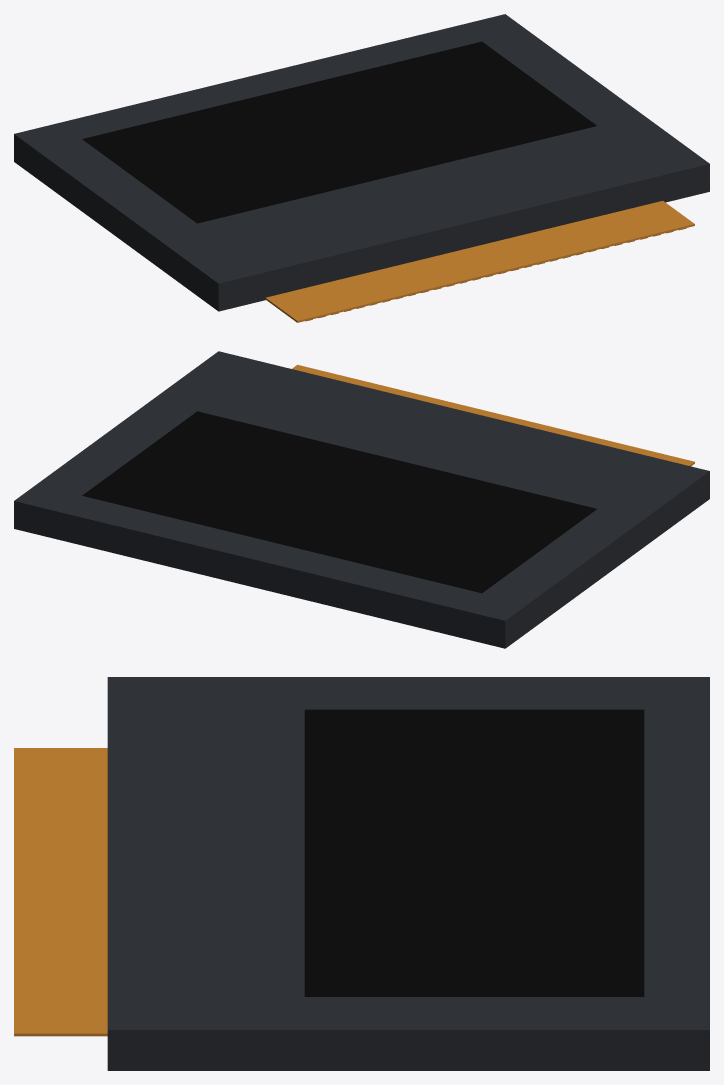
Rendered from ssd1306-oled-128x64.glb.
3 views of the same model, one above another, from view 1: azimuth 30°, elevation 25°; view 2: azimuth 150°, elevation 25°; view 3: azimuth 270°, elevation 25° (orthographic). The views are drawn at different scales.
Parts seen in each view (by area): view 1: object 1, glass, object 3; view 2: object 1, glass, object 3; view 3: object 1, glass, object 3.
Boxes of the visible parts, box(x1,y1,x2,y2) form: object 1: box(14, 14, 709, 311); glass: box(82, 41, 596, 223); object 3: box(265, 201, 694, 322); object 1: box(14, 351, 709, 648); glass: box(82, 411, 596, 593); object 3: box(292, 364, 694, 466); object 1: box(107, 677, 709, 1070); glass: box(304, 709, 644, 996); object 3: box(14, 748, 107, 1036).
Size of the model in its own units: 0.0267 by 0.00145 by 0.0223.
